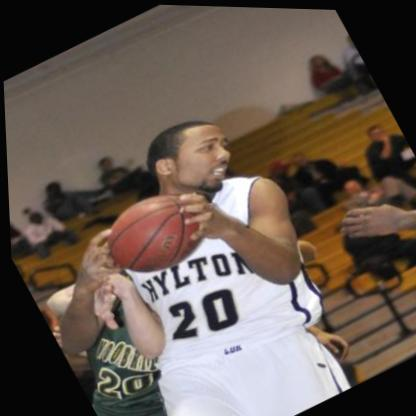basketball: (83, 173, 217, 291)
